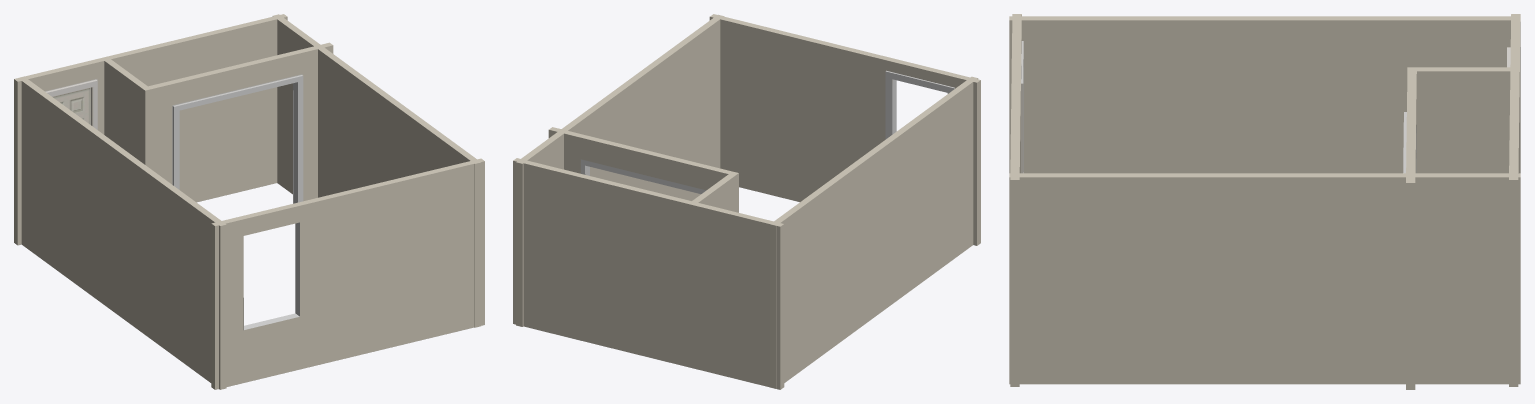
The model's file is walls 1.fbx.
The picture shows the model from 3 angles, left to right: view 1: azimuth 30°, elevation 25°; view 2: azimuth 150°, elevation 25°; view 3: azimuth 270°, elevation 25°; orthographic projection. The views are drawn at different scales.
Visible parts, largest first — view 1: window_wall, board_wall, front_door, bed_wall, wardrobe_wall, entrance_wall; view 2: front_door, board_wall, window_wall, bed_wall, wardrobe_wall, entrance_wall; view 3: bed_wall, board_wall, entrance_wall, window_wall, front_door, wardrobe_wall.
Boxes of the visible parts, x1,y1,x2,y2 form: window_wall: (211,158,484,389); board_wall: (18,76,226,389); front_door: (14,14,287,245); bed_wall: (272,14,481,327); wardrobe_wall: (145,42,333,203); entrance_wall: (102,57,150,164); front_door: (513,158,784,389); board_wall: (770,76,978,388); window_wall: (709,14,980,245); bed_wall: (516,14,723,326); wardrobe_wall: (548,127,738,212); entrance_wall: (690,171,738,212); bed_wall: (1009,173,1520,384); board_wall: (1009,16,1520,173); entrance_wall: (1408,67,1515,173); window_wall: (1010,14,1023,386); front_door: (1507,14,1520,386); wardrobe_wall: (1403,67,1416,389).
Size of the model in its own units: 45.28 by 25.85 by 57.91.
